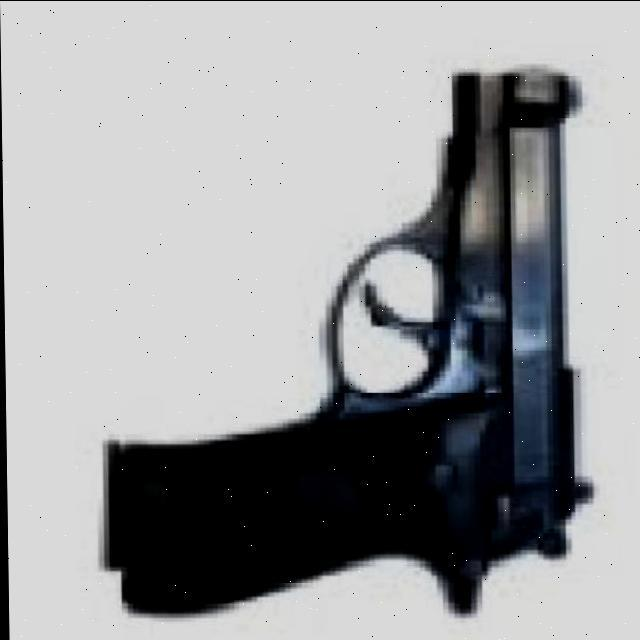gun: (80, 64, 610, 622)
